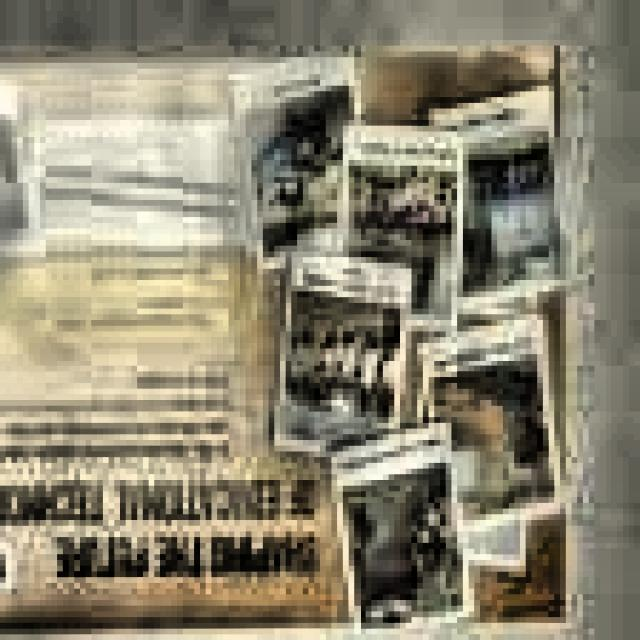paper: (0, 38, 575, 639)
